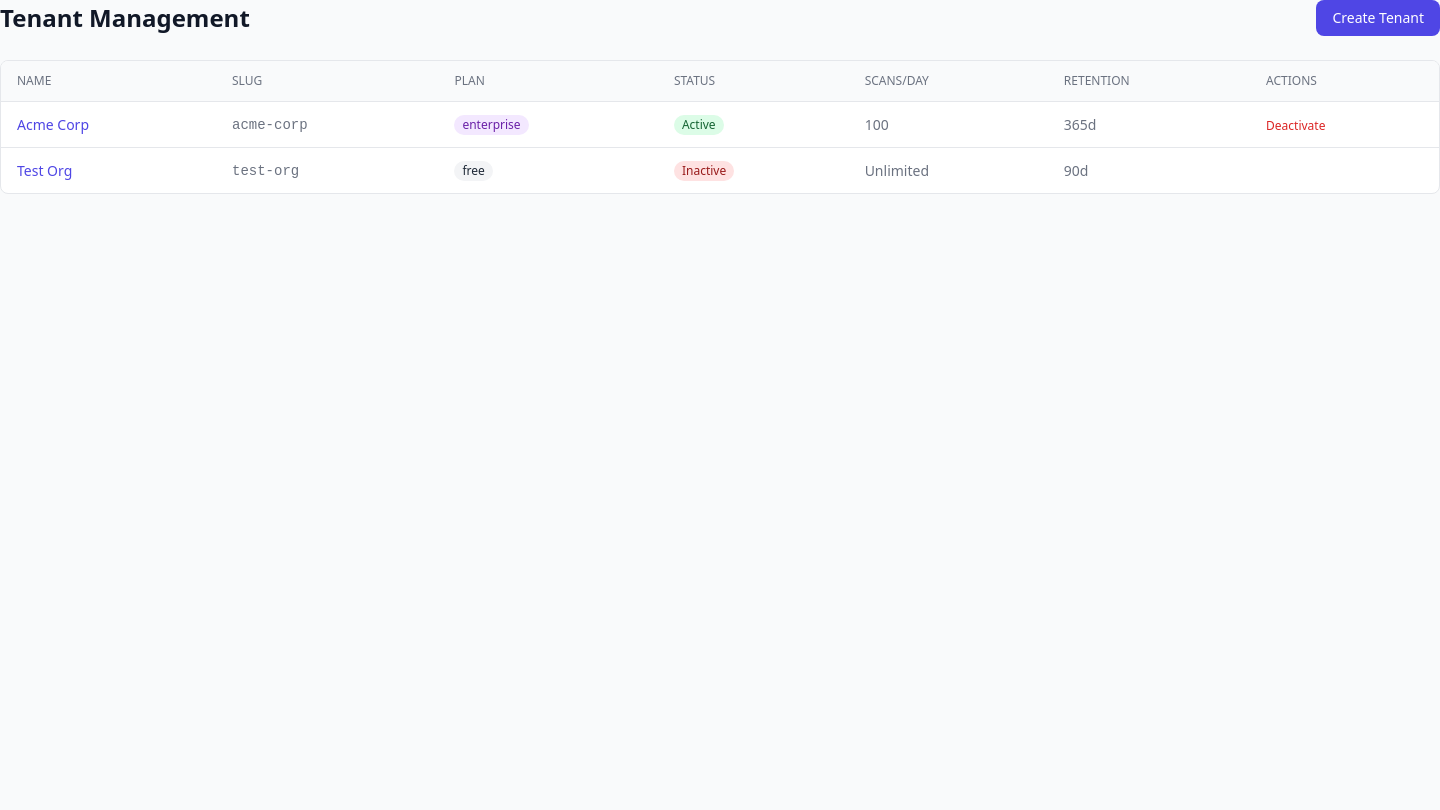
Test: TenantsPage › shows deactivate confirmation on button click
Expected: the link "Acme Corp" is shown, [17,114,89,134]
Click the button "Deactivate". click: point(1296, 126)
box: [1266,118,1325,134]
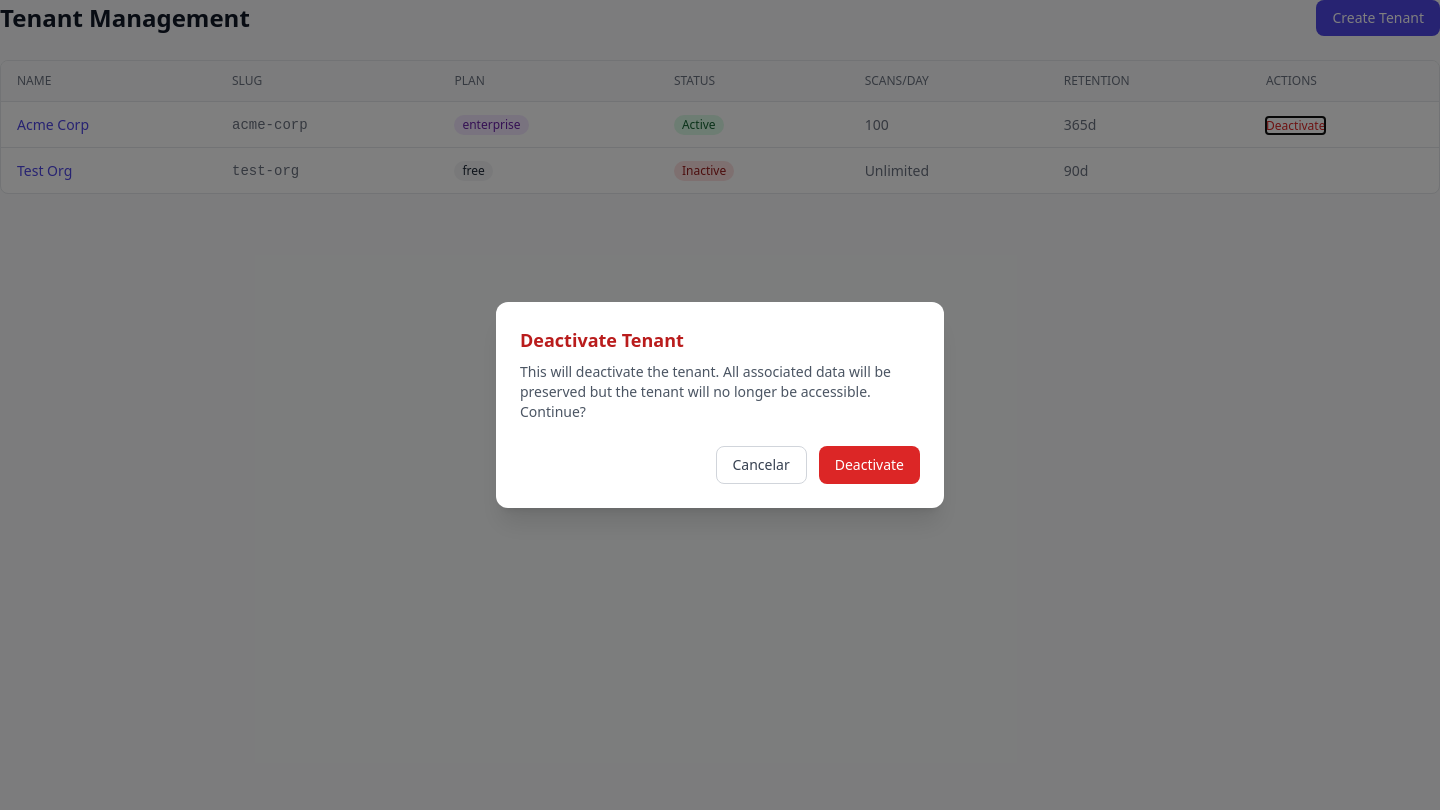
Now the heading "Deactivate Tenant" is shown, box [520,328,684,352]
